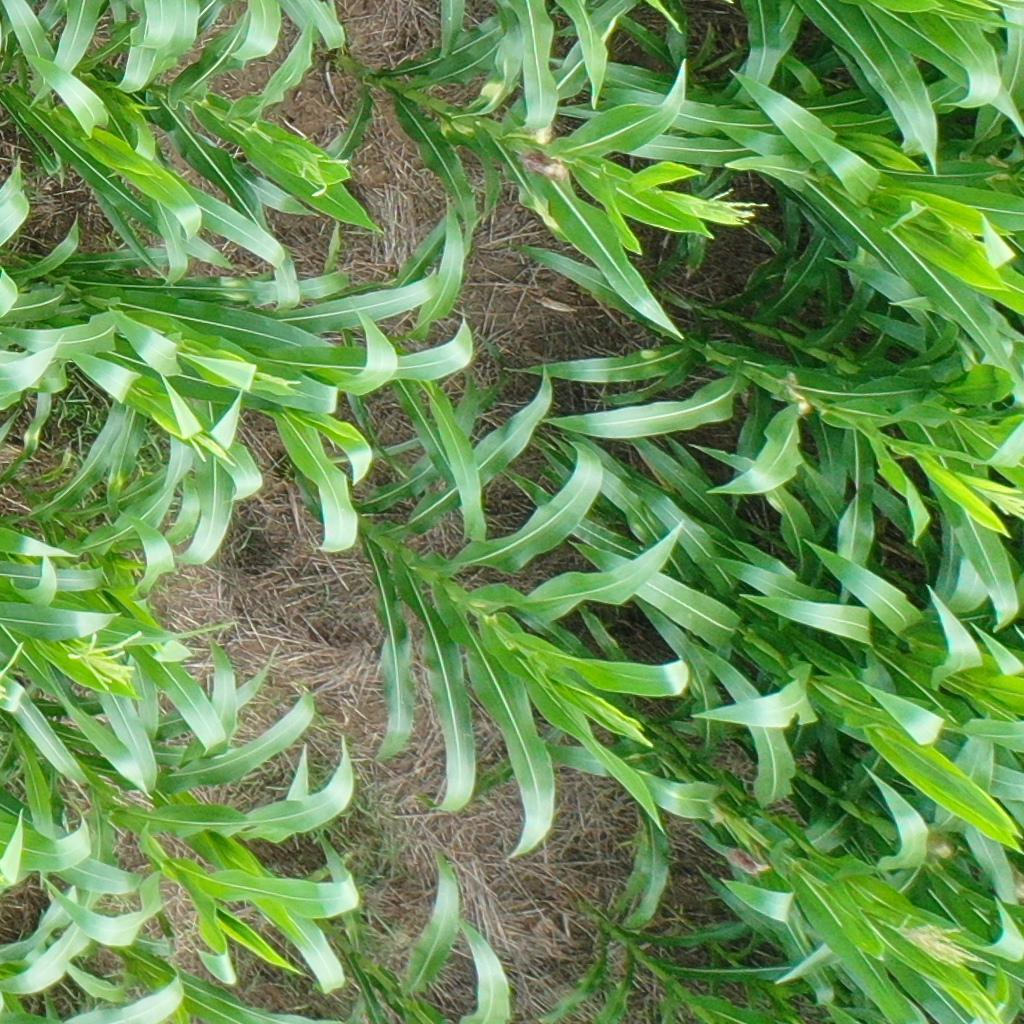Tassel: (884, 909, 995, 972), (64, 627, 145, 693), (682, 181, 768, 242), (585, 692, 654, 755), (283, 141, 351, 198), (175, 428, 238, 472), (1, 633, 29, 706), (973, 481, 1024, 520), (248, 362, 303, 395)
